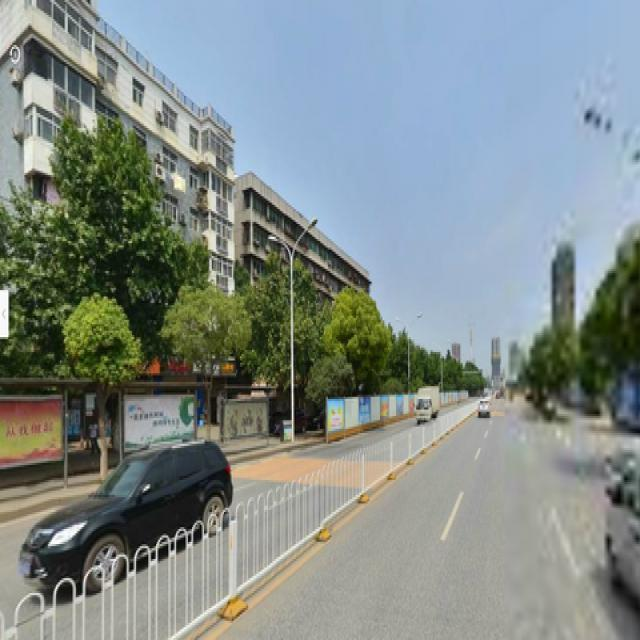cinn: (184, 300, 244, 442), (79, 301, 128, 474)
